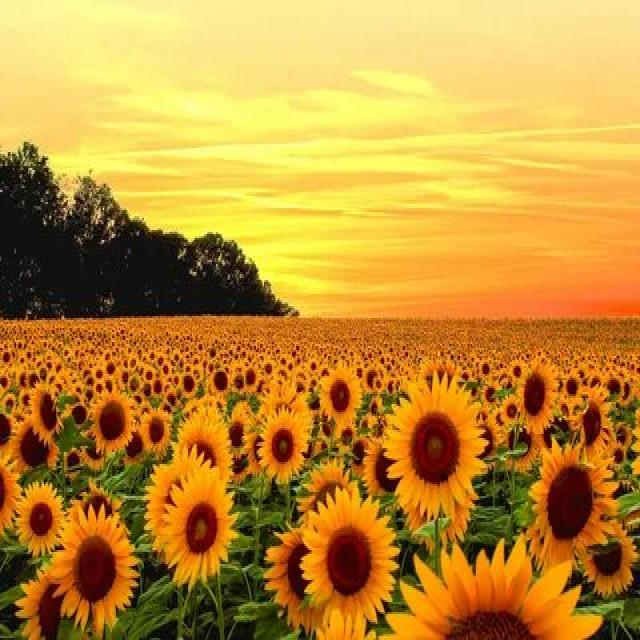sunflower: (387, 364, 489, 520), (295, 482, 400, 628), (526, 432, 618, 576), (48, 500, 143, 632), (158, 458, 242, 580), (17, 474, 67, 566), (259, 406, 304, 482), (575, 382, 616, 464), (320, 354, 363, 432), (25, 374, 64, 448), (519, 354, 556, 430), (94, 388, 134, 458), (207, 366, 232, 402)
